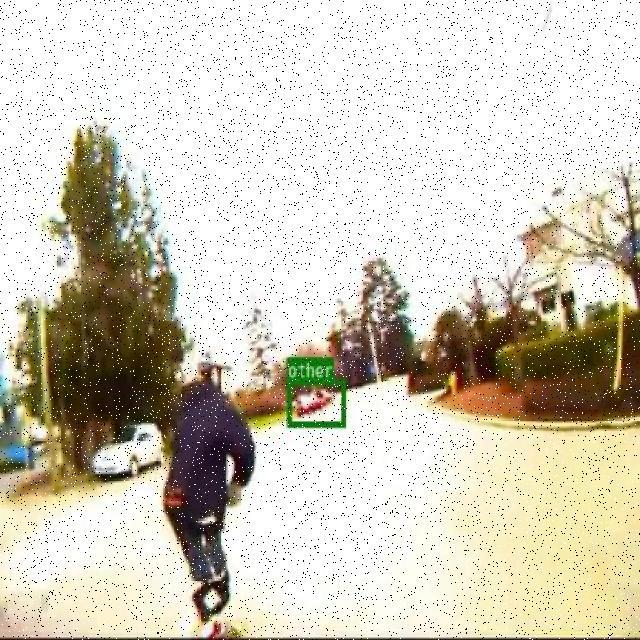other: (286, 378, 345, 426)
